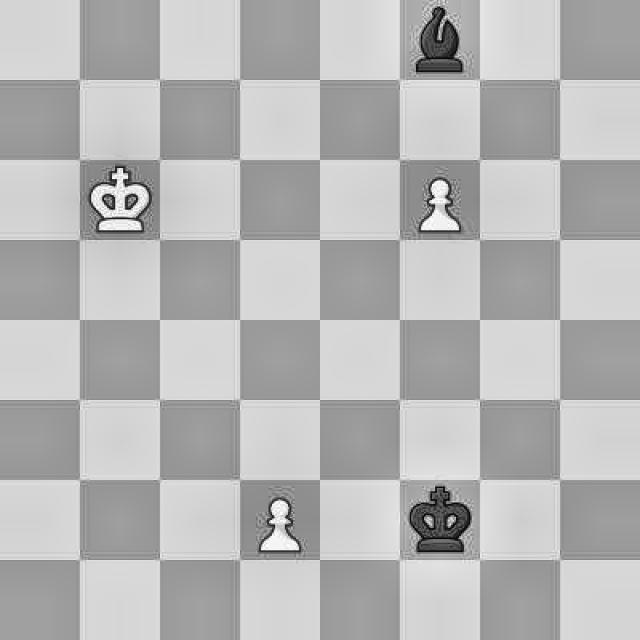black bishop: (397, 0, 476, 79)
black king: (398, 485, 476, 560)
white king: (82, 160, 158, 240)
white pawn: (397, 162, 472, 234), (245, 482, 312, 558)
